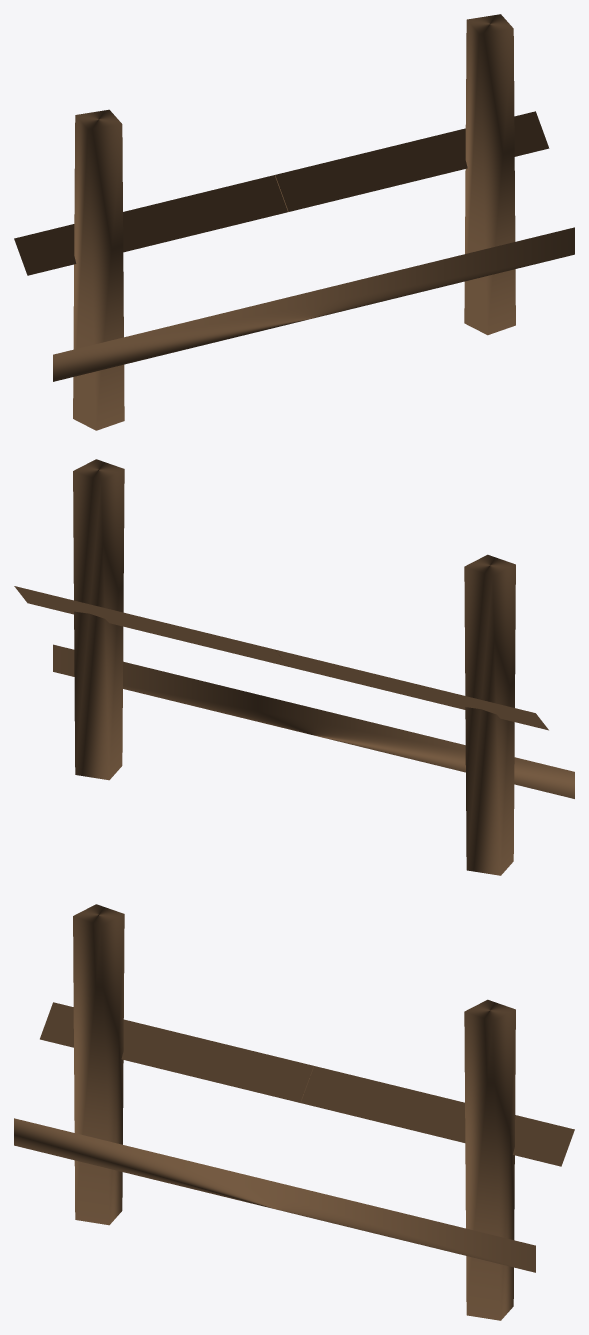
Rendered from fence_rail_lod1.glb.
3 views of the same model, one above another, from view 1: azimuth 30°, elevation 25°; view 2: azimuth 150°, elevation 25°; view 3: azimuth 330°, elevation 25° (orthographic).
Size of the model in its own units: 2 by 1.1 by 0.26.
